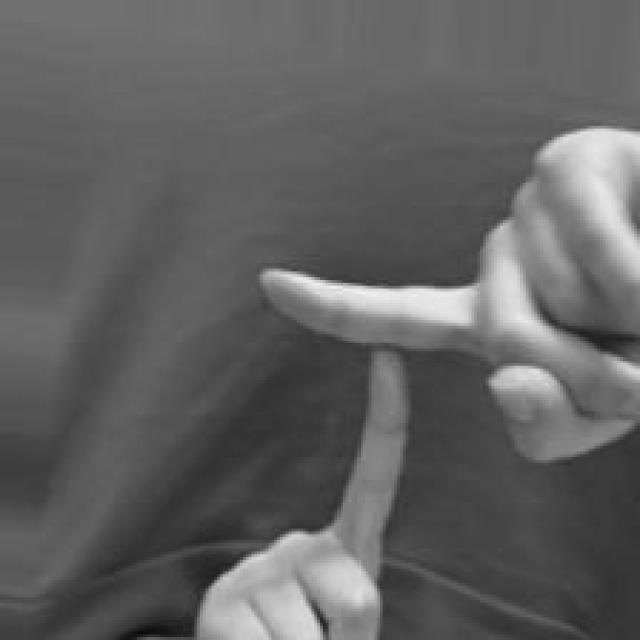T: (200, 123, 640, 640)
